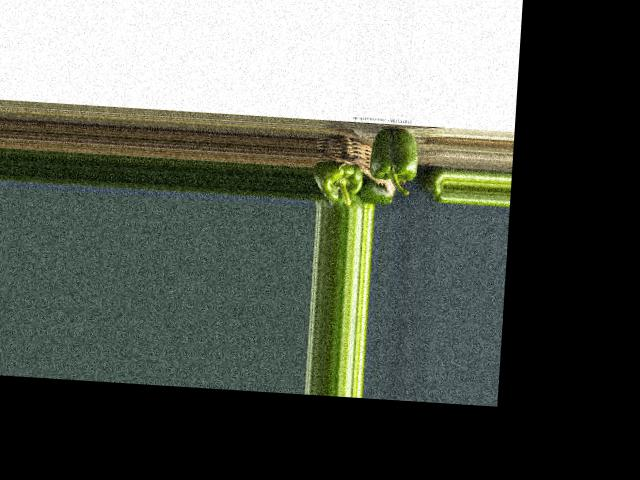bell_pepper: (424, 171, 445, 202)
